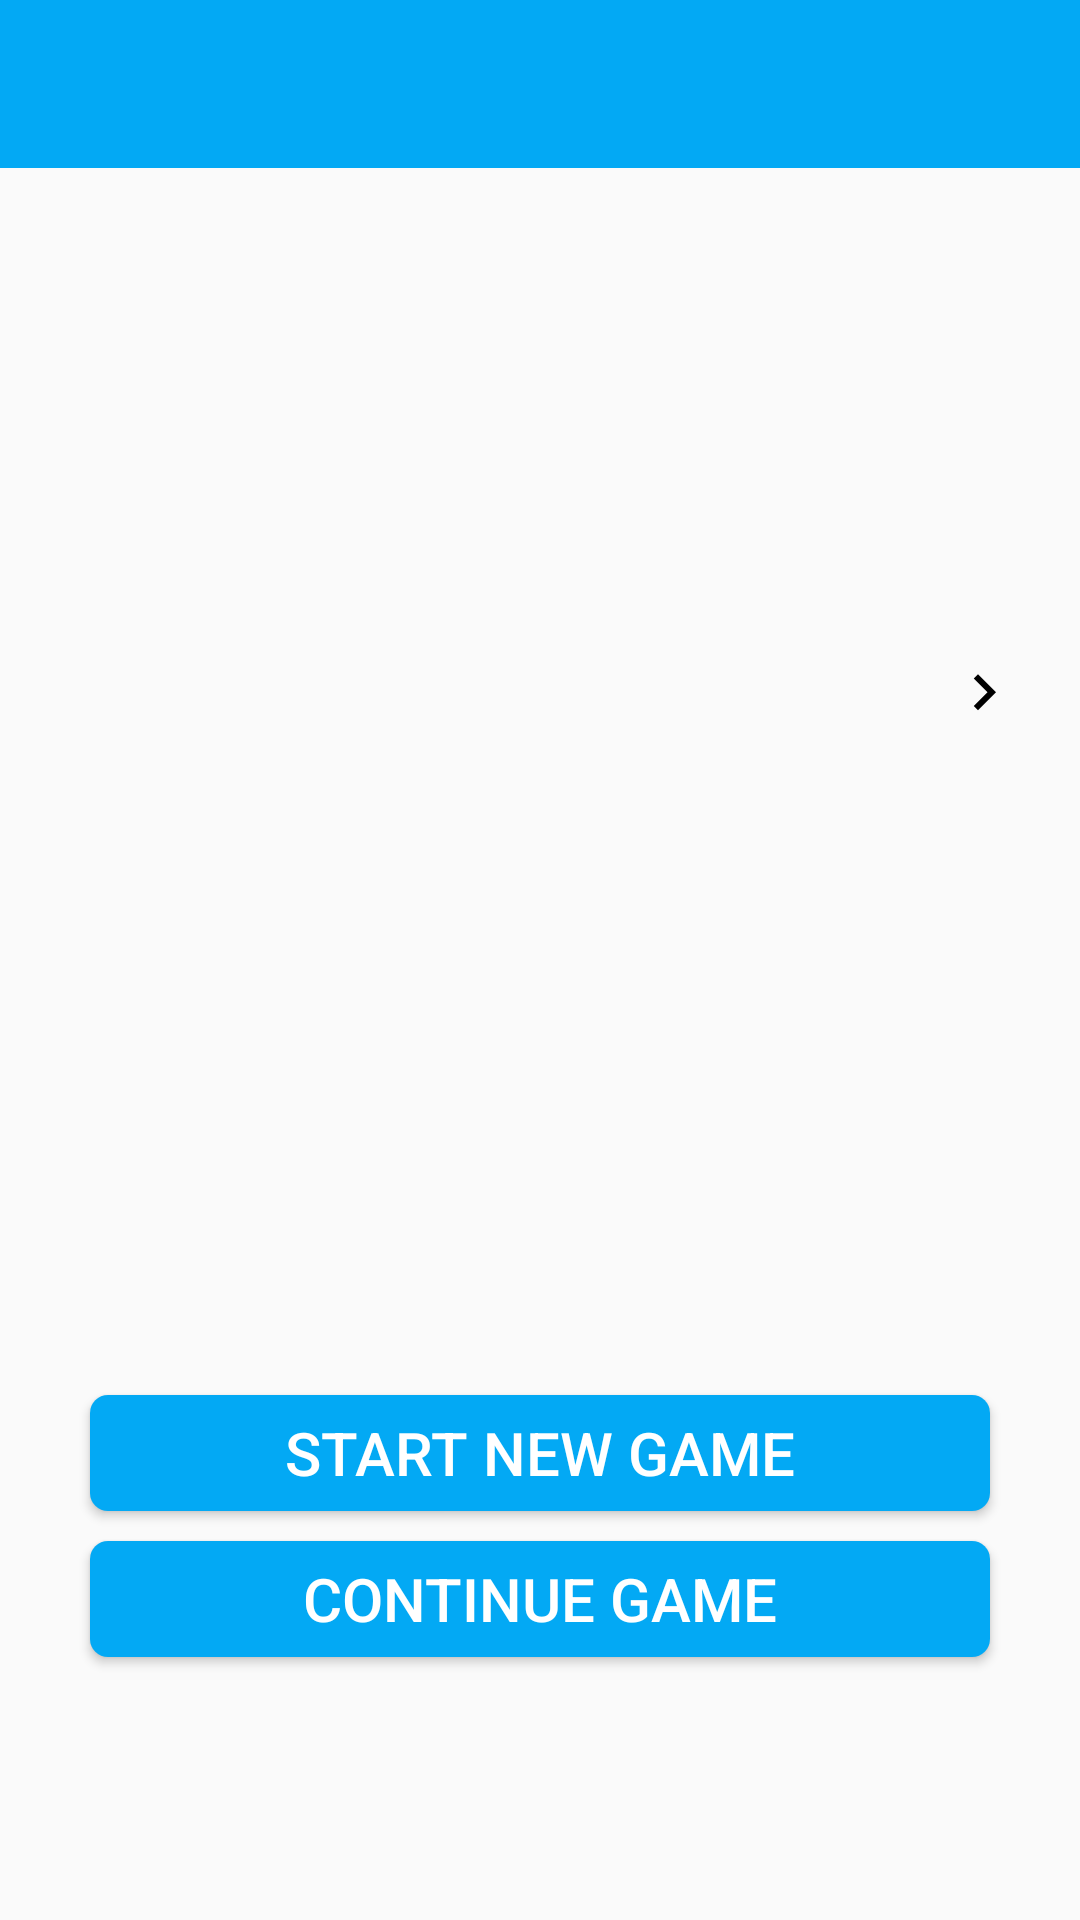

Where to tap for icons on this 1080px×1920px app screen, as (x,y):
keyboard arrow right: (985,692)
